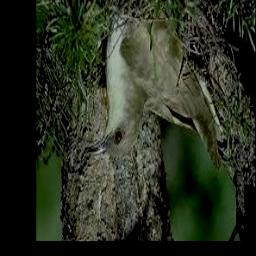Cuckoo: (84, 15, 220, 171)
